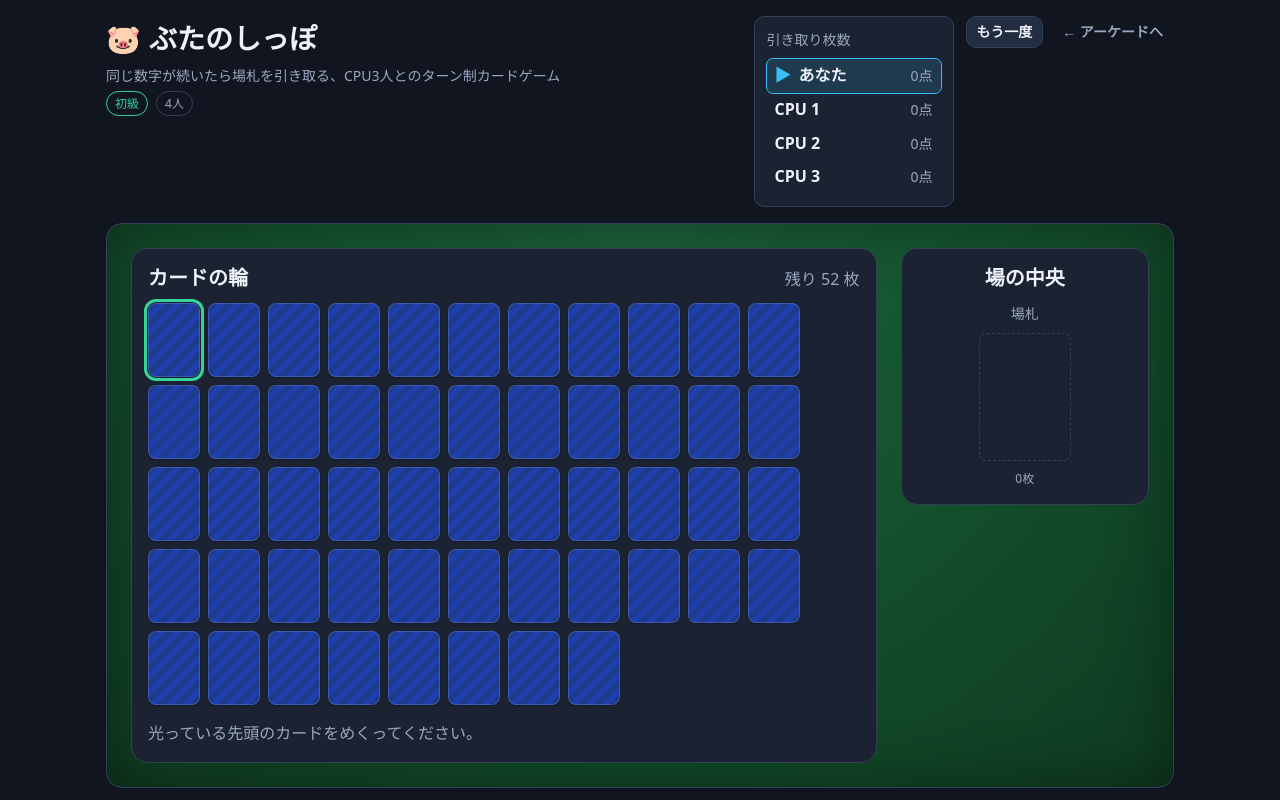
Test: ButanoshippoGame › 先頭のカードをめくると場札が1枚になり、輪が51枚に減る
Click the 1st button named "裏向きのカード".
click(174, 340)  # box [148,303,200,377]
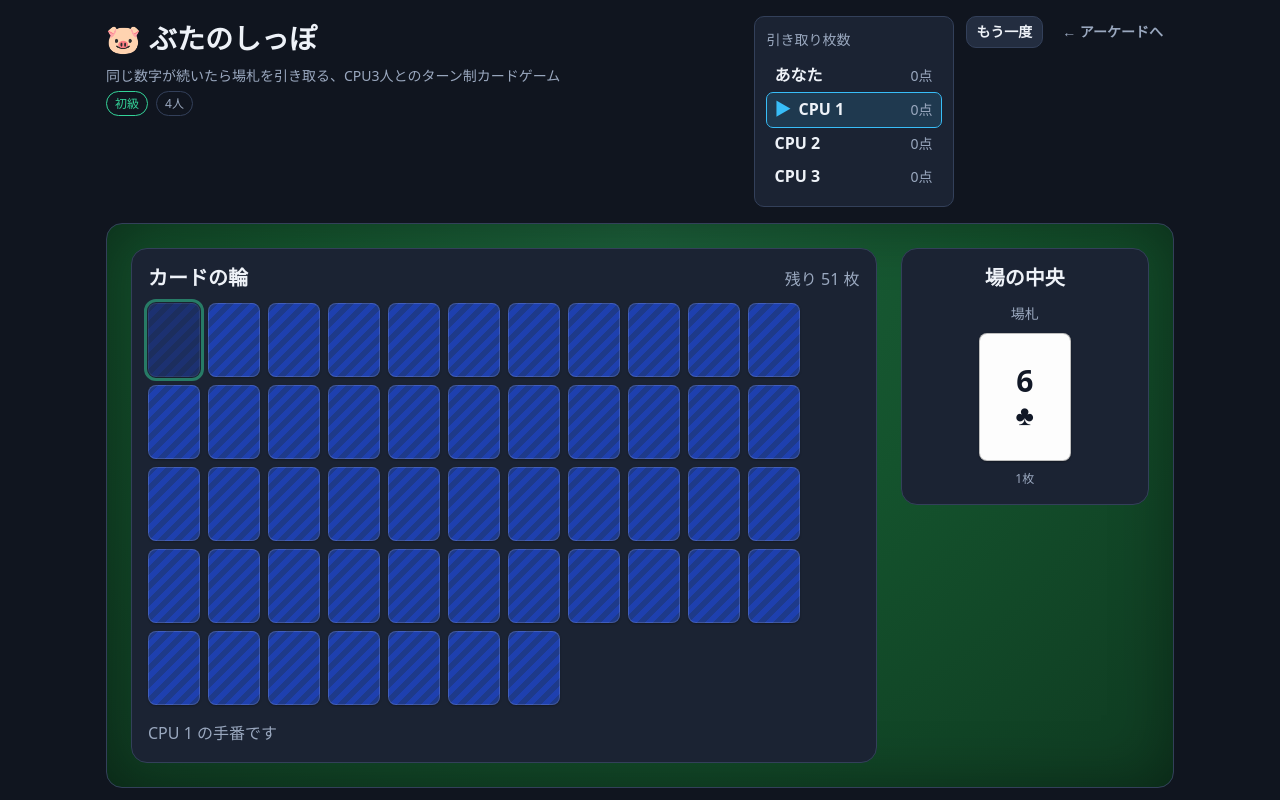
Expected: the number of buttons named "裏向きのカード" is 51
Expected: the text "1枚" is shown, [1015,469,1034,488]
